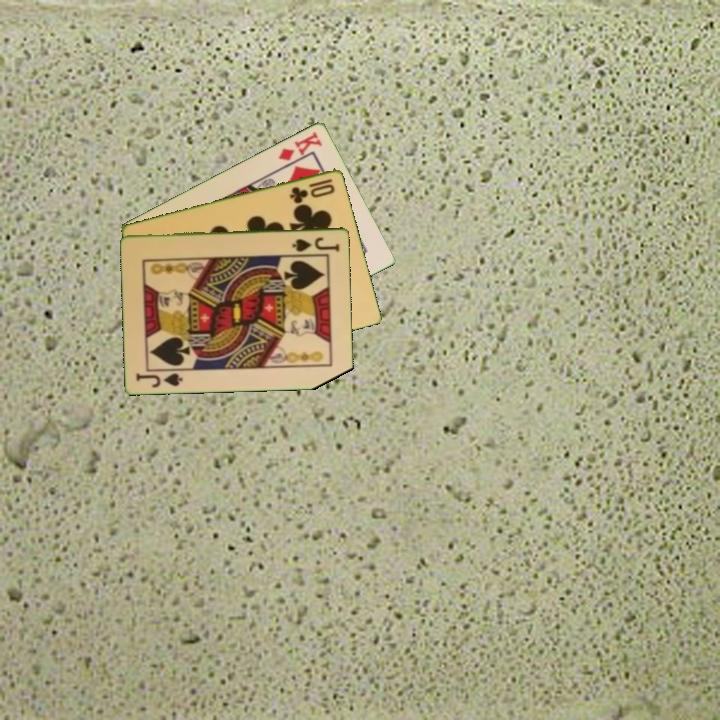10c: (286, 175, 338, 205)
Js: (289, 233, 342, 254), (133, 369, 186, 390)
Kd: (275, 127, 325, 163)
